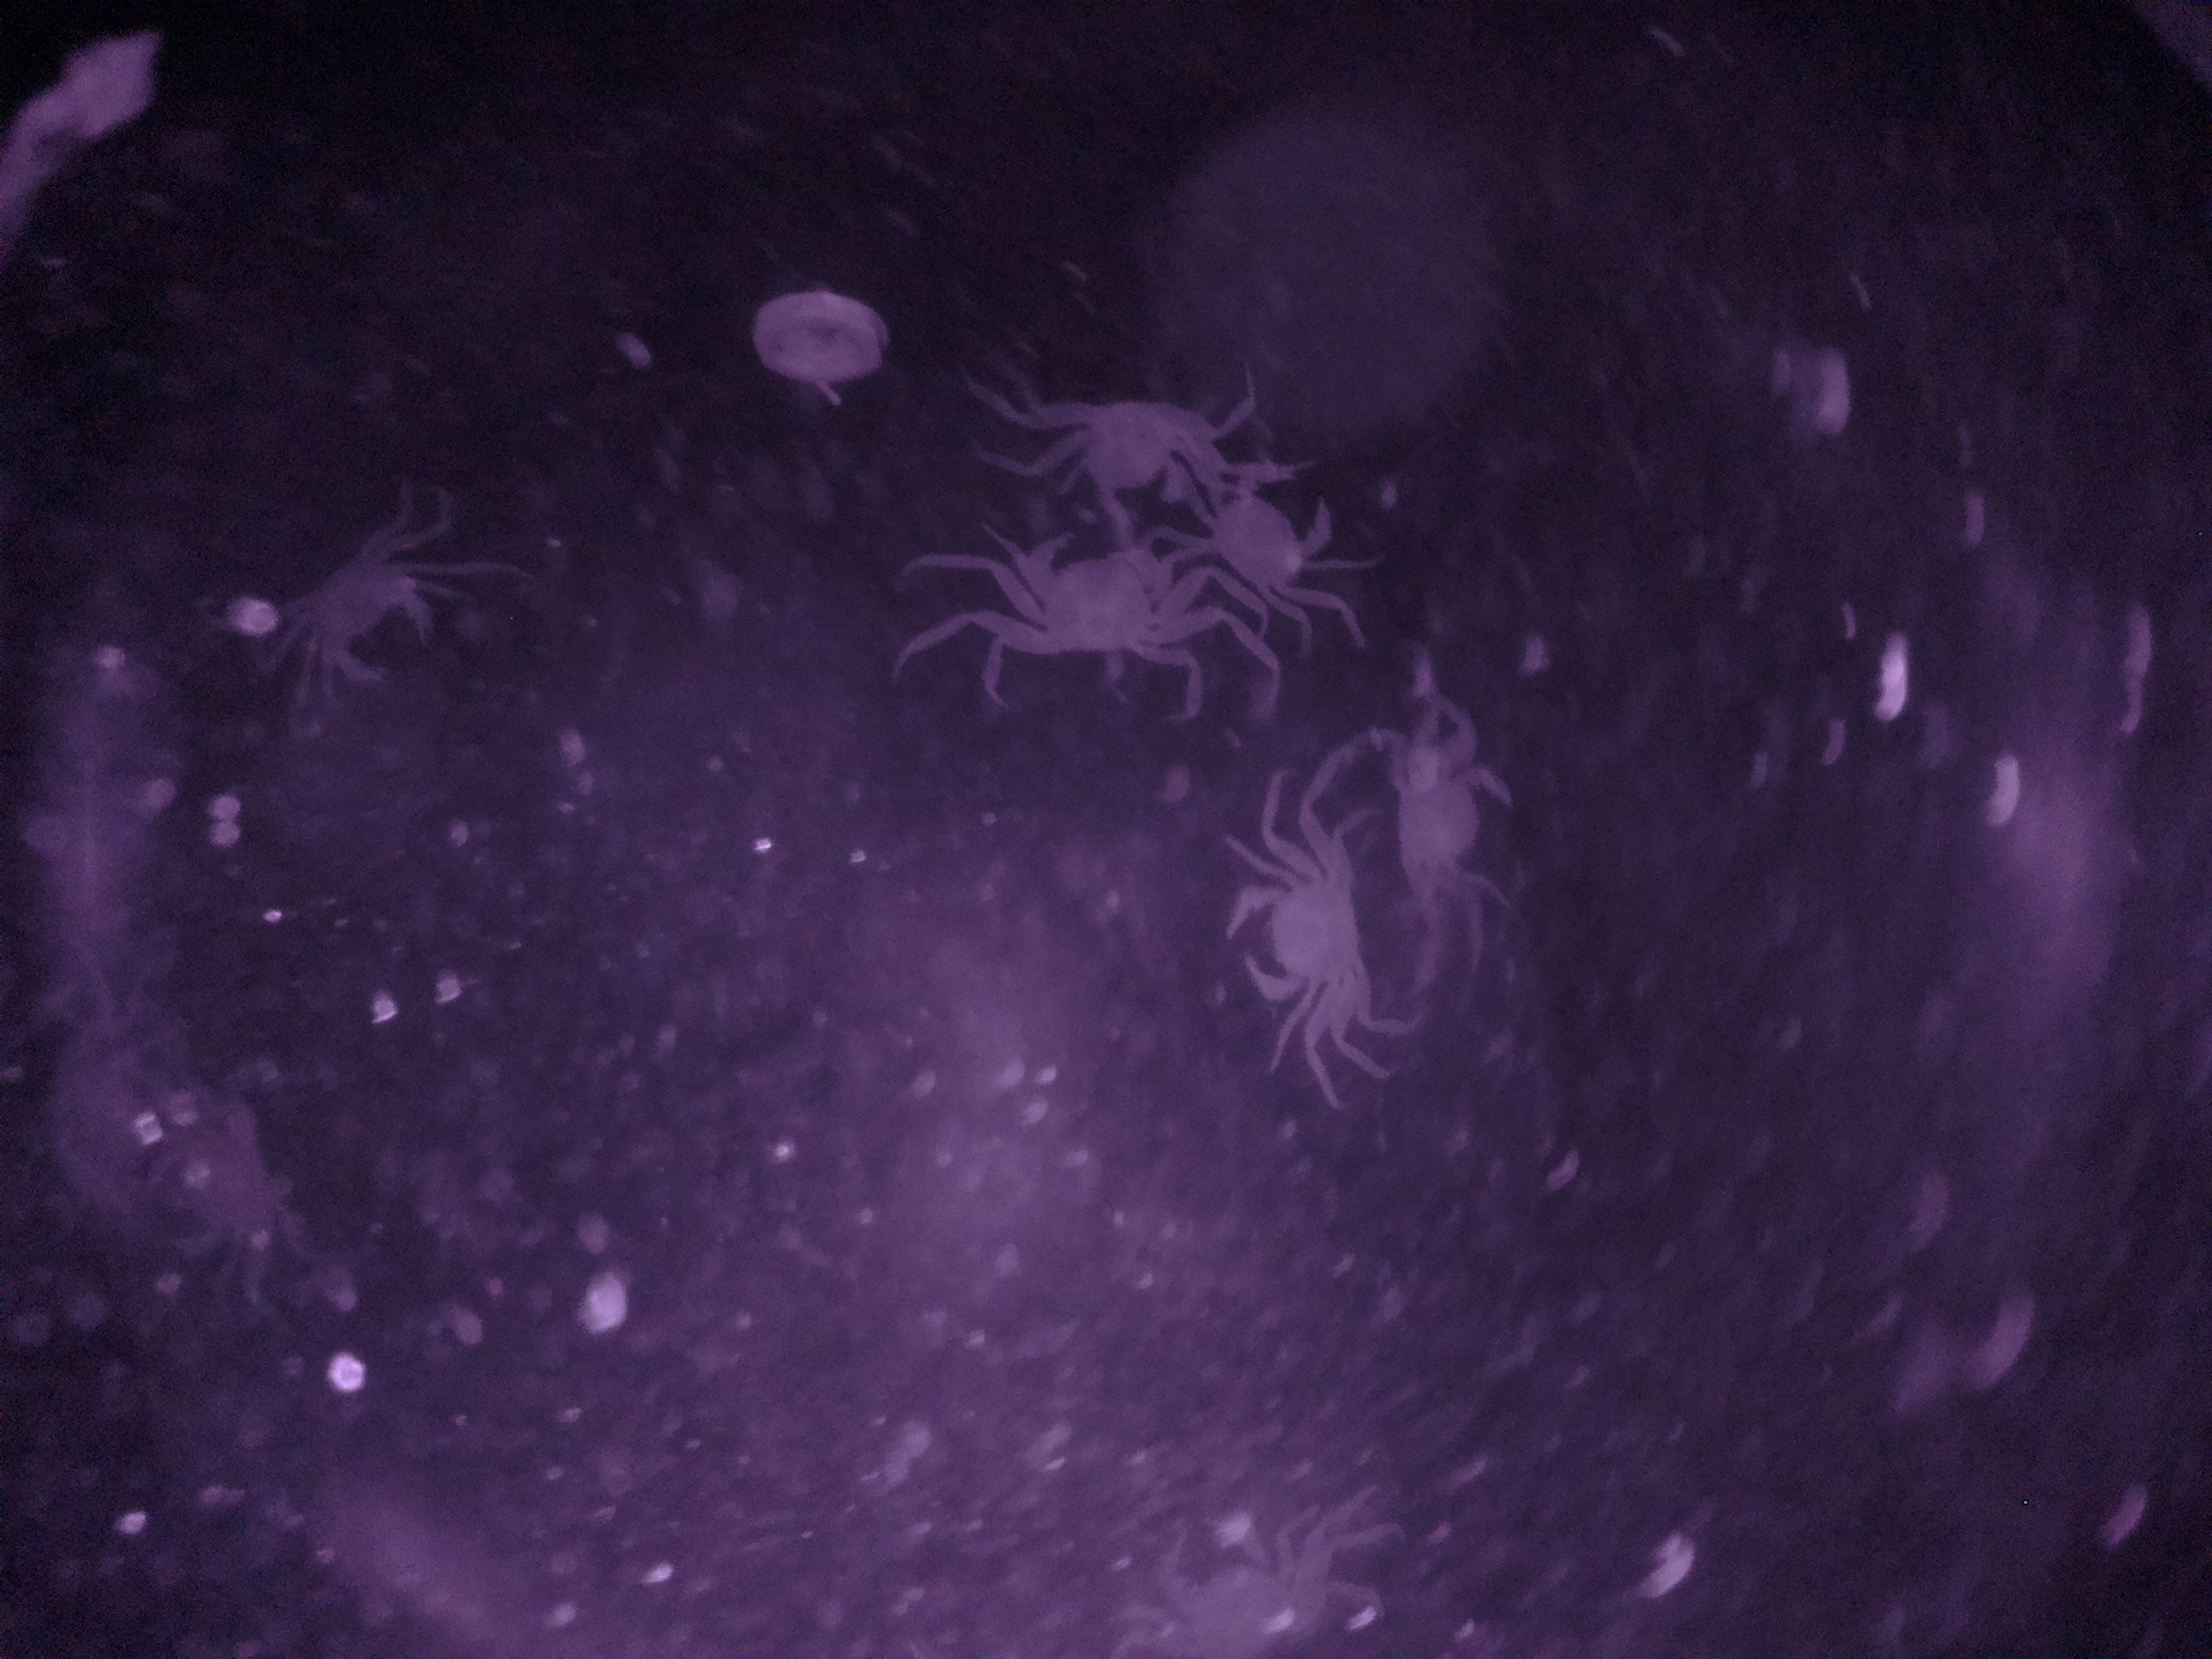Crab: (1205, 829, 1379, 1042), (968, 526, 1193, 688), (270, 532, 465, 714), (1003, 371, 1221, 521)
